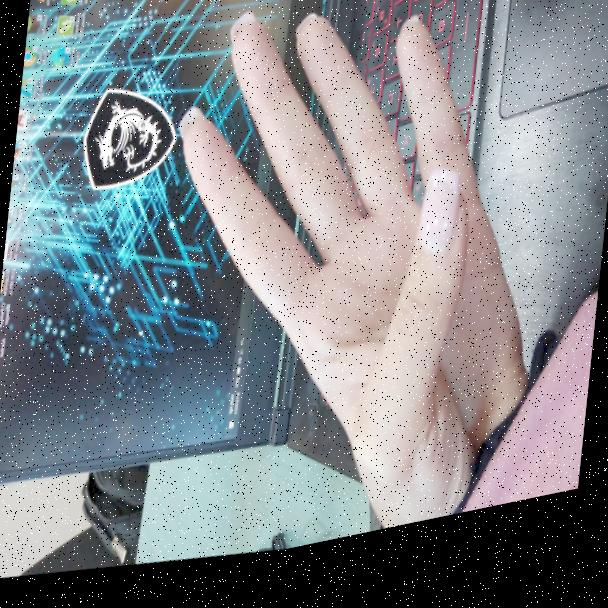four: (133, 0, 539, 586)
